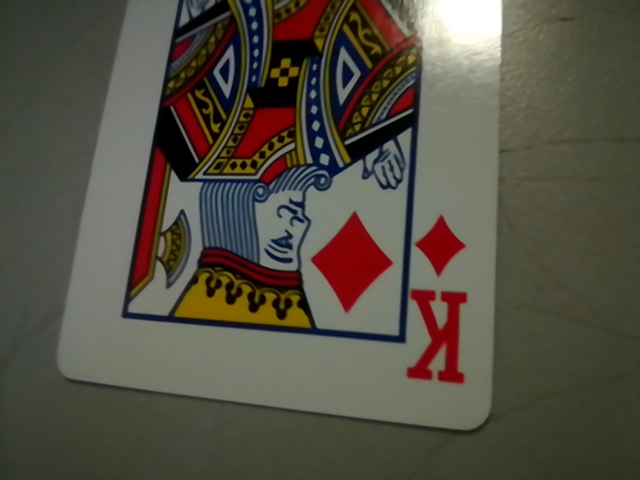fk k: (400, 209, 482, 398)
